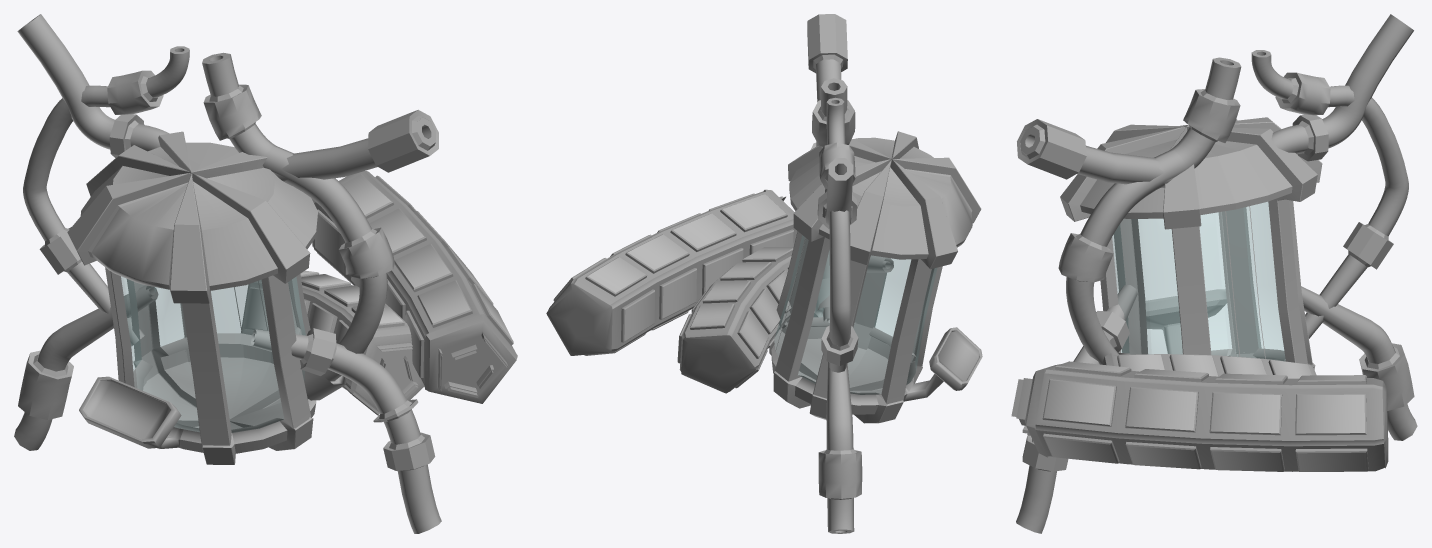
Rendered from Chamber-Anim-Scene002-Shots005-011.fbx.
3 renders of one model, left to right at view 1: azimuth 30°, elevation 25°; view 2: azimuth 150°, elevation 25°; view 3: azimuth 270°, elevation 25°, orthographic. The views are drawn at different scales.
Parts seen in each view (by area): view 1: Yasuek_Chamber, yasuke_Wire_00, Power_Cell_T_01, Power_Cell_T_02; view 2: Yasuek_Chamber, Power_Cell_T_01, yasuke_Wire_00, Power_Cell_T_02; view 3: Yasuek_Chamber, yasuke_Wire_00, Power_Cell_T_01, Power_Cell_T_02.
Part boxes in pixels (bbox=[...]): Yasuek_Chamber: bbox=[67, 131, 317, 464]; yasuke_Wire_00: bbox=[14, 14, 441, 533]; Power_Cell_T_01: bbox=[312, 171, 517, 403]; Power_Cell_T_02: bbox=[241, 270, 424, 415]; Yasuek_Chamber: bbox=[769, 131, 982, 423]; Power_Cell_T_01: bbox=[546, 189, 797, 355]; yasuke_Wire_00: bbox=[807, 14, 893, 533]; Power_Cell_T_02: bbox=[677, 247, 793, 393]; Yasuek_Chamber: bbox=[1060, 117, 1322, 369]; yasuke_Wire_00: bbox=[1016, 14, 1417, 533]; Power_Cell_T_01: bbox=[1011, 361, 1388, 471]; Power_Cell_T_02: bbox=[1102, 353, 1316, 378].
Bounding box in the file's own units: 140 × 146 × 127.
